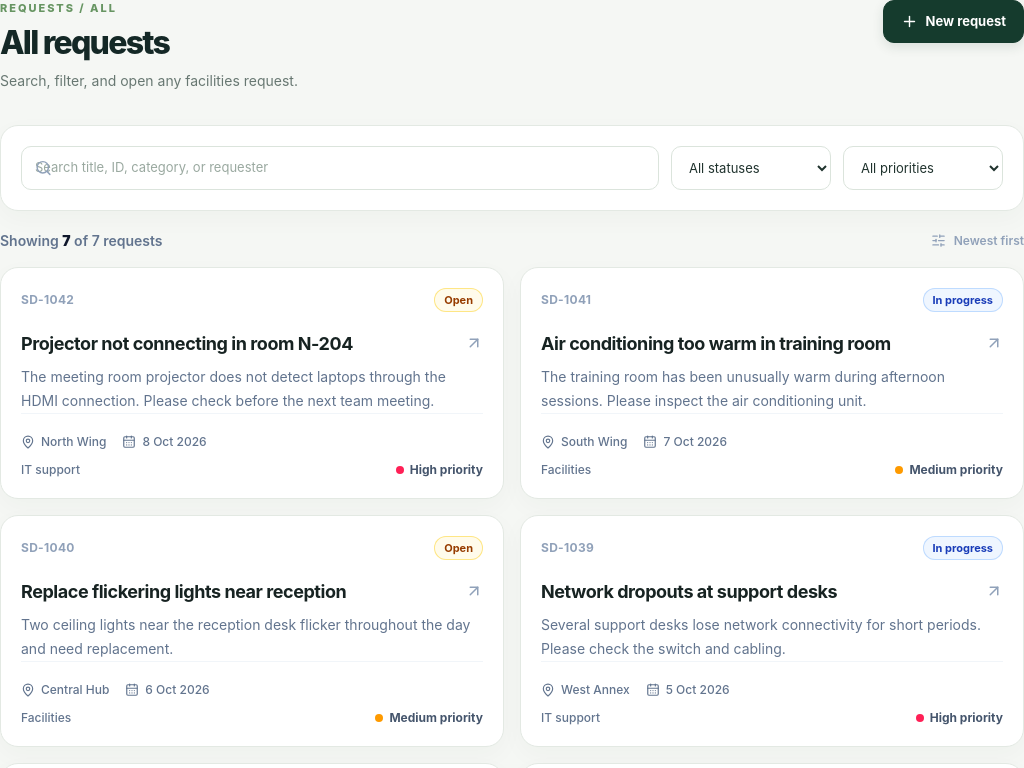
Scenario: searches and filters the request cards
Expected: the text "Projector not connecting in room N-204" is shown, [21,332,353,357]
Type "projector" into the search field named "Search requests" at [340, 168], box [21,146,659,190]
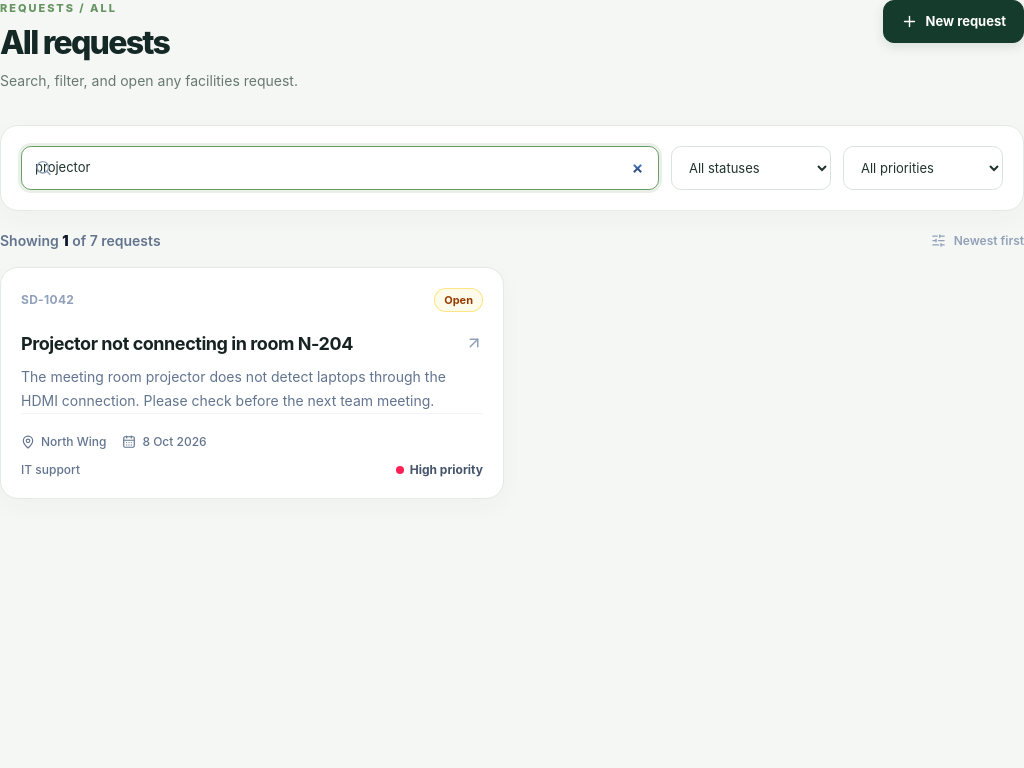
Expected: the text "Projector not connecting in room N-204" is shown, [21,332,353,357]
Now the link "Air conditioning too warm in training room" is gone
Select "Resolved" in the 1st dropdown named "Filter by status" at [751, 168], box [671,146,831,190]
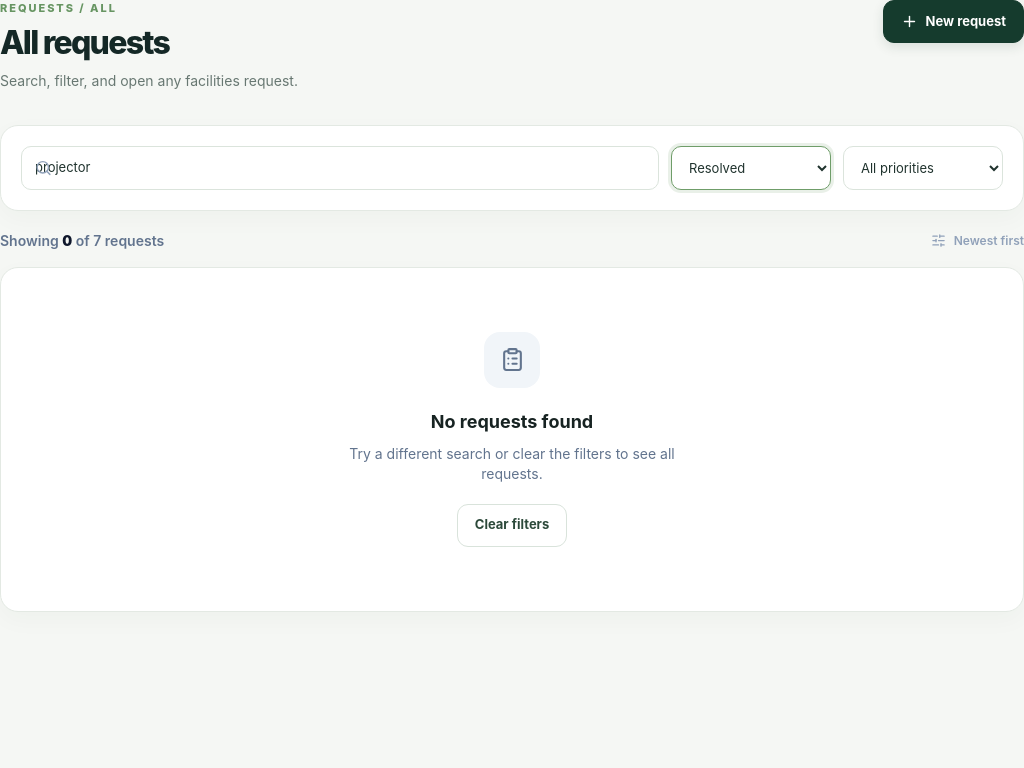
Now the heading "No requests found" is shown, box [431,408,593,436]
Click the button "Clear filters" at [512, 525], box [457,504,567,547]
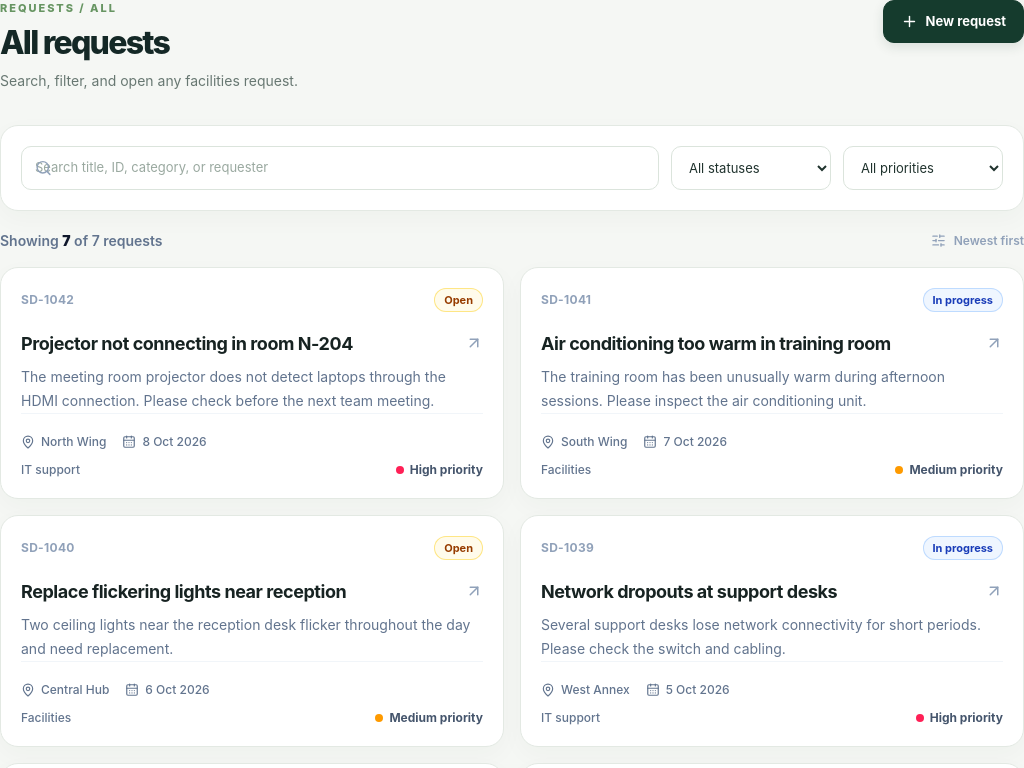
Now the text "Air conditioning too warm in training room" is shown, box [541,332,891,357]
